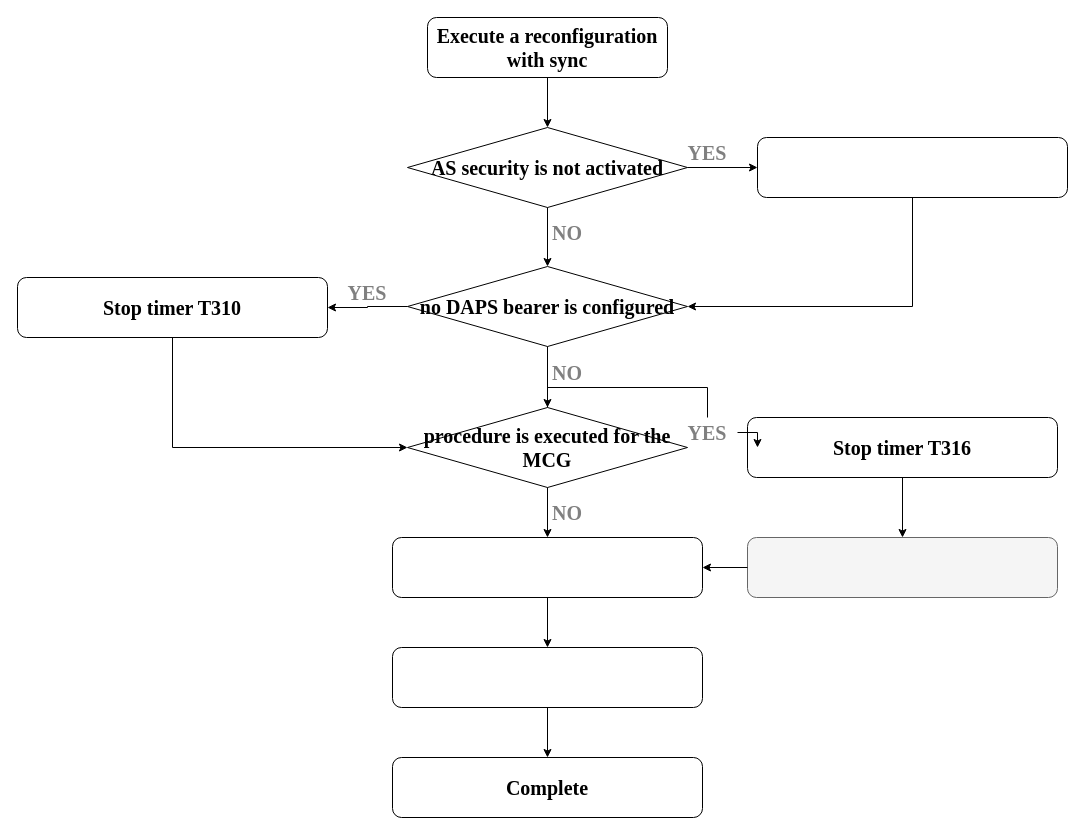
This 1085x835 diagram has some shape labels left out. The shapes that lost their labels are listed below. From the top down, each one's box as (x1, y1, x2, y2) in pixels, then its label:
(756, 136, 1068, 198): Going to RRC_IDLE(5.3.1.1)
(392, 536, 702, 598): Stop timer T312
(746, 536, 1058, 598): Clear the information included inVarRLF-Report
(392, 646, 702, 708): Start timer T304
